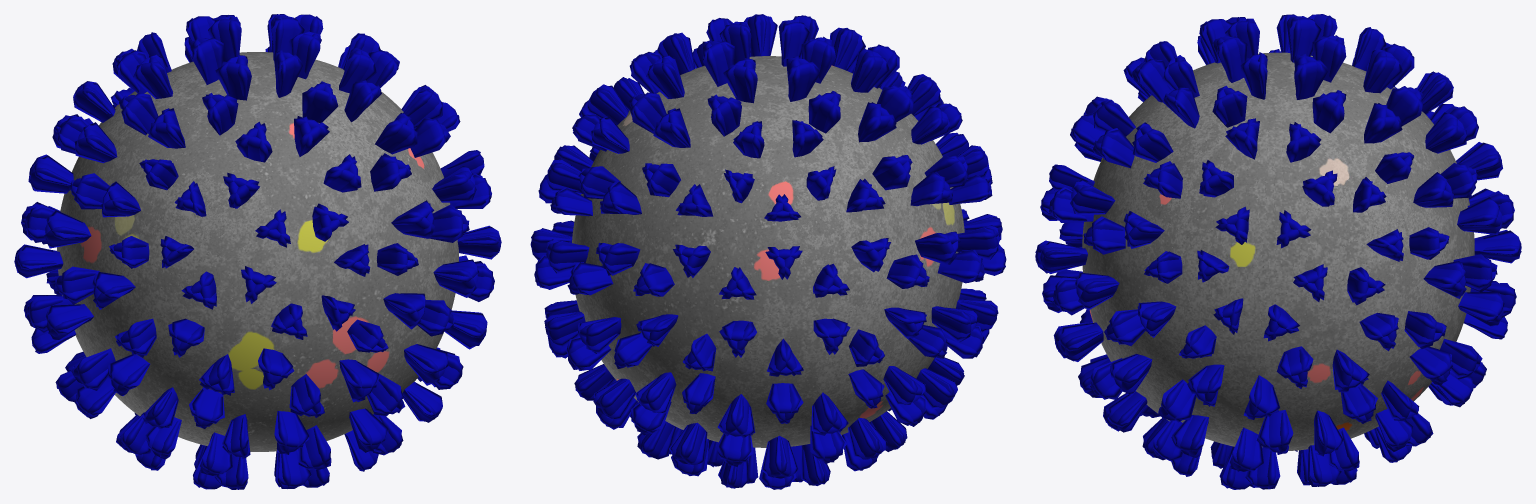
The model's file is Covid19.fbx.
The picture shows the model from 3 angles, left to right: view 1: azimuth 30°, elevation 25°; view 2: azimuth 150°, elevation 25°; view 3: azimuth 270°, elevation 25°; orthographic projection. The views are drawn at different scales.
Visible parts, largest first — view 1: polySurface3, pCube1; view 2: polySurface3, pCube1; view 3: polySurface3, pCube1.
Part boxes in pixels (box(x1,y1,x2,y2)): polySurface3: box(14, 14, 501, 489); pCube1: box(57, 52, 458, 451); polySurface3: box(530, 14, 1006, 489); pCube1: box(572, 56, 964, 447); polySurface3: box(1035, 14, 1521, 489); pCube1: box(1082, 52, 1474, 450).
Size of the model in its own units: 2.51 by 2.48 by 2.53.
